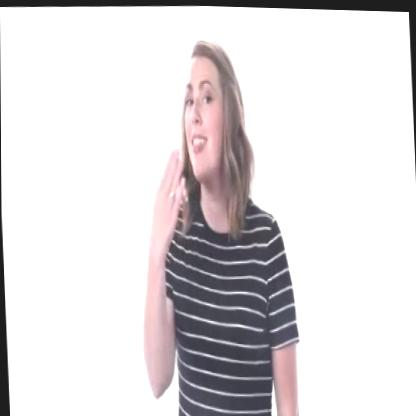ThankYou: (144, 45, 248, 285)
